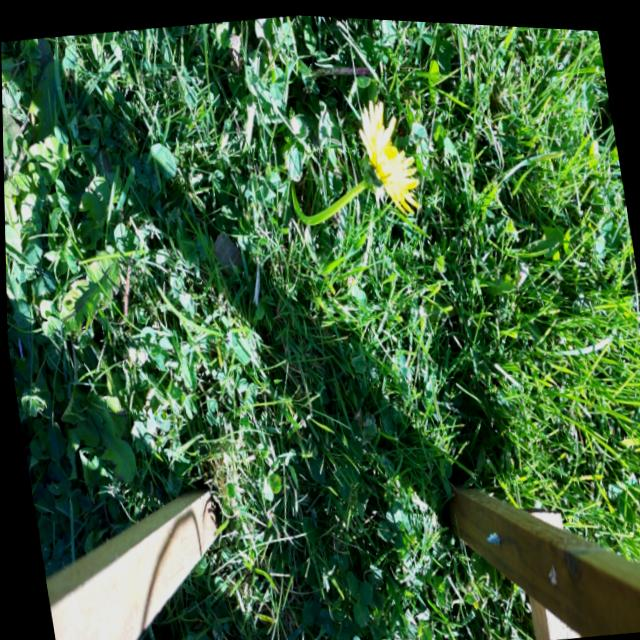base: (278, 159, 306, 205), (305, 51, 329, 88)
